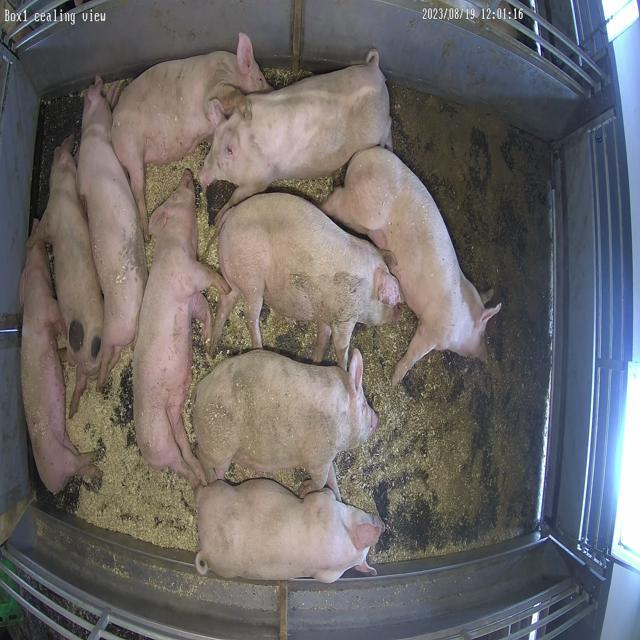Dirt: (341, 84, 551, 564)
Pig: (323, 147, 502, 384), (213, 194, 403, 368), (111, 33, 271, 234), (199, 49, 392, 208), (133, 170, 229, 488), (193, 349, 379, 500), (76, 79, 147, 388), (20, 225, 94, 494), (195, 480, 385, 584), (40, 139, 103, 416)
